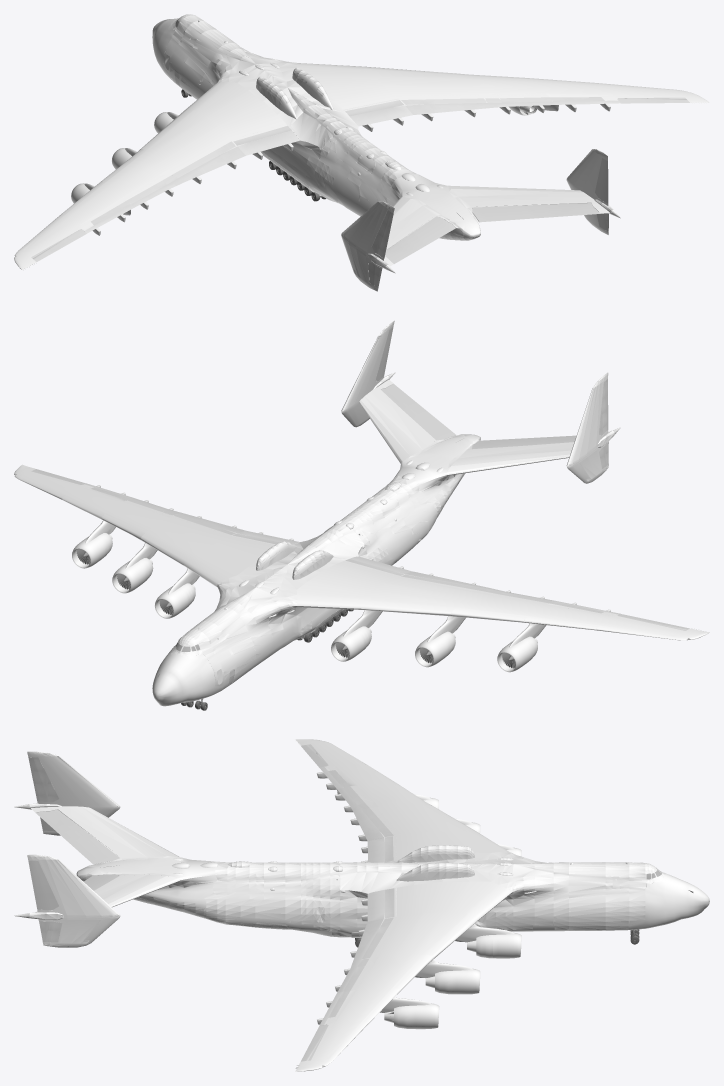
3 views of the same model, one above another, from view 1: azimuth 30°, elevation 25°; view 2: azimuth 150°, elevation 25°; view 3: azimuth 270°, elevation 25° (orthographic).
Parts seen in each view (by area): view 1: AN225, AN225.084, AN225.001, AN225.003, AN225.004, AN225.007, AN225.008, Куб, AN225.052, AN225.065, AN225.082, AN225.068 (+3 smaller); view 2: AN225, AN225.084, AN225.001, AN225.004, AN225.003, Куб, AN225.007, AN225.008; view 3: AN225, AN225.001, AN225.084, AN225.003, AN225.004, Куб, AN225.008, AN225.018, AN225.016.
Boxes of the visible parts, x1,y1,x2,y2 form: AN225: (163,14,480,240); AN225.084: (14,81,293,270); AN225.001: (297,63,709,131); AN225.003: (447,149,620,234); AN225.004: (341,196,436,291); AN225.007: (472,203,600,222); AN225.008: (385,216,456,263); Куб: (152,18,178,80); AN225.052: (238,130,299,155); AN225.065: (177,146,245,183); AN225.082: (405,103,491,114); AN225.068: (349,105,412,126); AN225: (170,434,480,689); AN225.084: (297,558,709,672); AN225.001: (14,464,293,618); AN225.004: (446,372,620,483); AN225.003: (341,320,435,463); Куб: (152,646,223,706); AN225.007: (381,384,455,440); AN225.008: (472,435,576,449); AN225: (76,845,665,937); AN225.001: (295,881,521,1071); AN225.084: (294,739,521,862); AN225.003: (14,854,180,947); AN225.004: (14,751,178,857); Куб: (628,873,709,929); AN225.008: (35,809,119,864); AN225.018: (28,860,58,909); AN225.016: (28,757,58,802).
Size of the model in its own units: 76.15 by 14.55 by 67.4.
7 materials, 2 textured.
